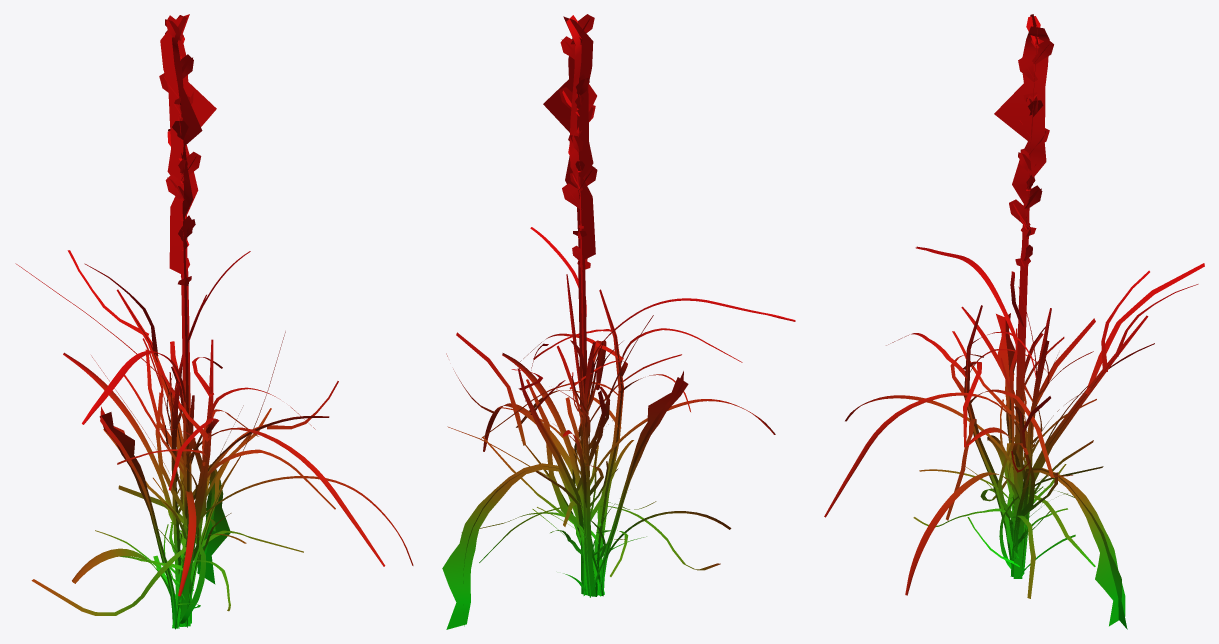
File: Var5_LOD0.fbx
3 views of the same model, side by side, from view 1: azimuth 30°, elevation 25°; view 2: azimuth 150°, elevation 25°; view 3: azimuth 270°, elevation 25° (orthographic). The views are drawn at different scales.
Parts seen in each view (by area): view 1: _f703_Var5_LOD0; view 2: _f703_Var5_LOD0; view 3: _f703_Var5_LOD0.
Part boxes in pixels (<box>): _f703_Var5_LOD0: <box>15,14,413,629</box>; _f703_Var5_LOD0: <box>442,14,795,629</box>; _f703_Var5_LOD0: <box>824,14,1204,629</box>.
Size of the model in its own units: 19.99 by 36.24 by 21.8.
